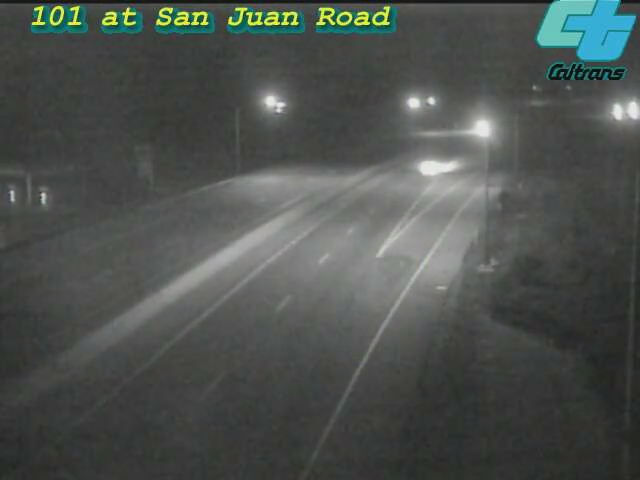vehicle: (391, 126, 471, 206), (457, 103, 507, 153), (593, 87, 640, 137), (607, 84, 640, 134)
